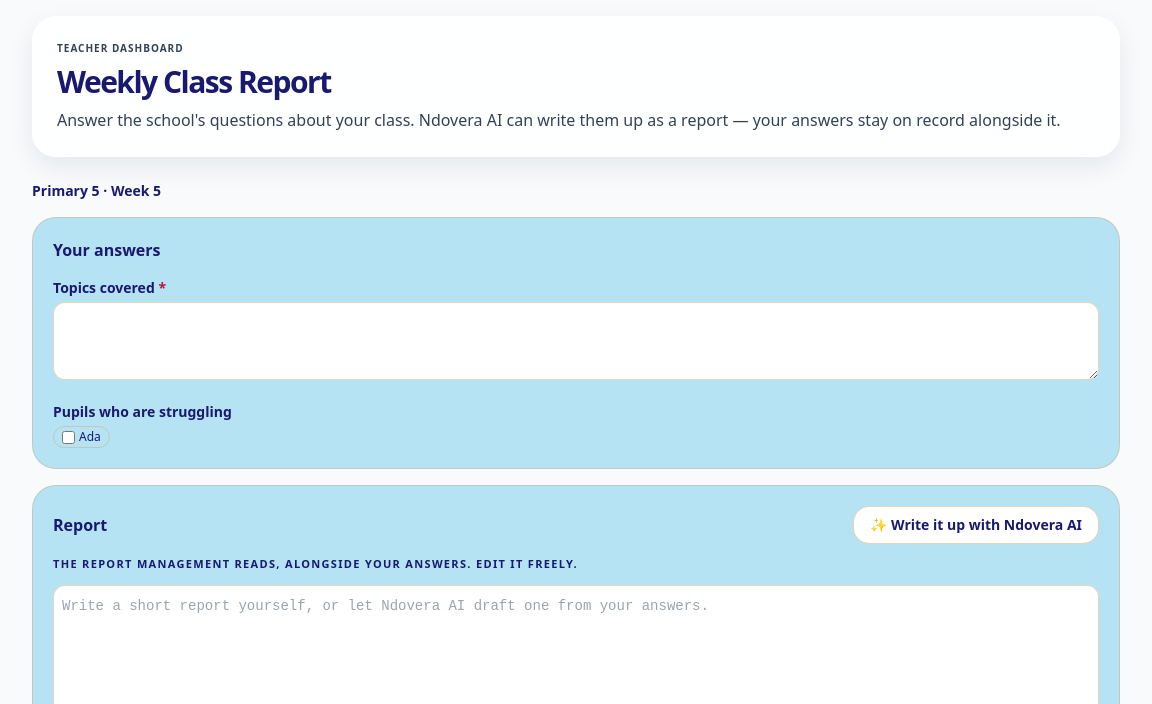
Test: a class teacher answers the questions, lets Ndovera AI write it up, edits it and submits
Type "Fractions" into the text box labelled "Topics covered *". click: x=576, y=341
box: [53, 302, 1099, 380]
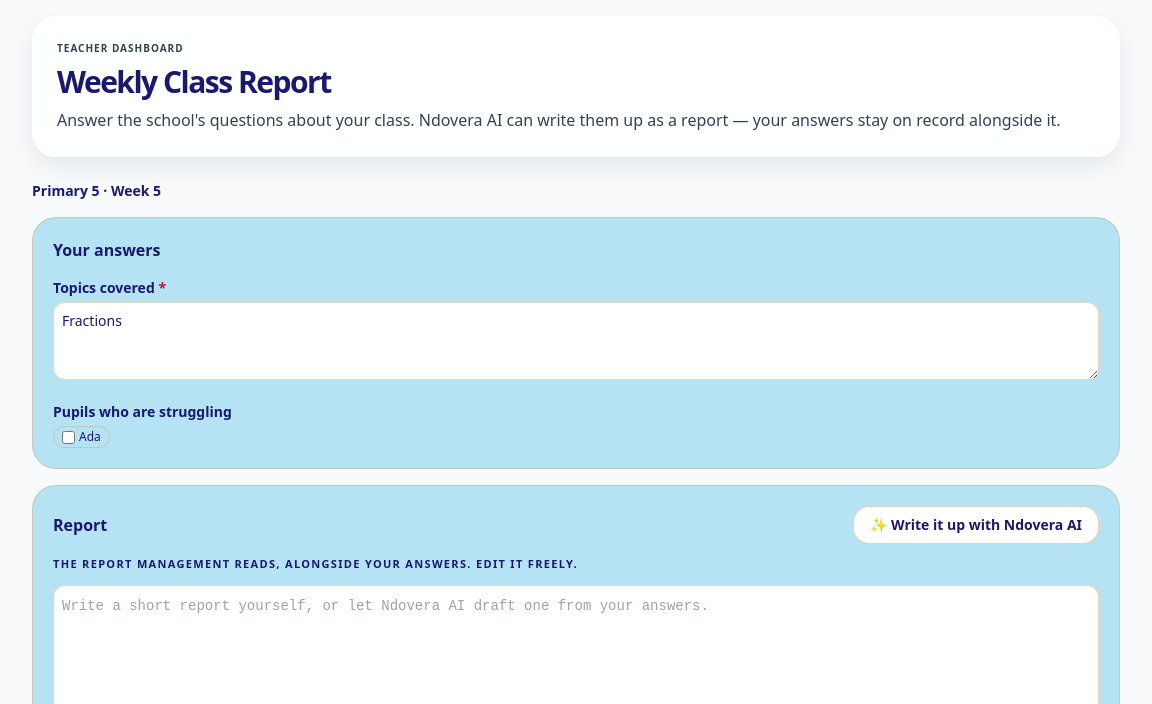
Click the checkbox labelled "Ada". click: x=68, y=437
box: [62, 430, 75, 444]
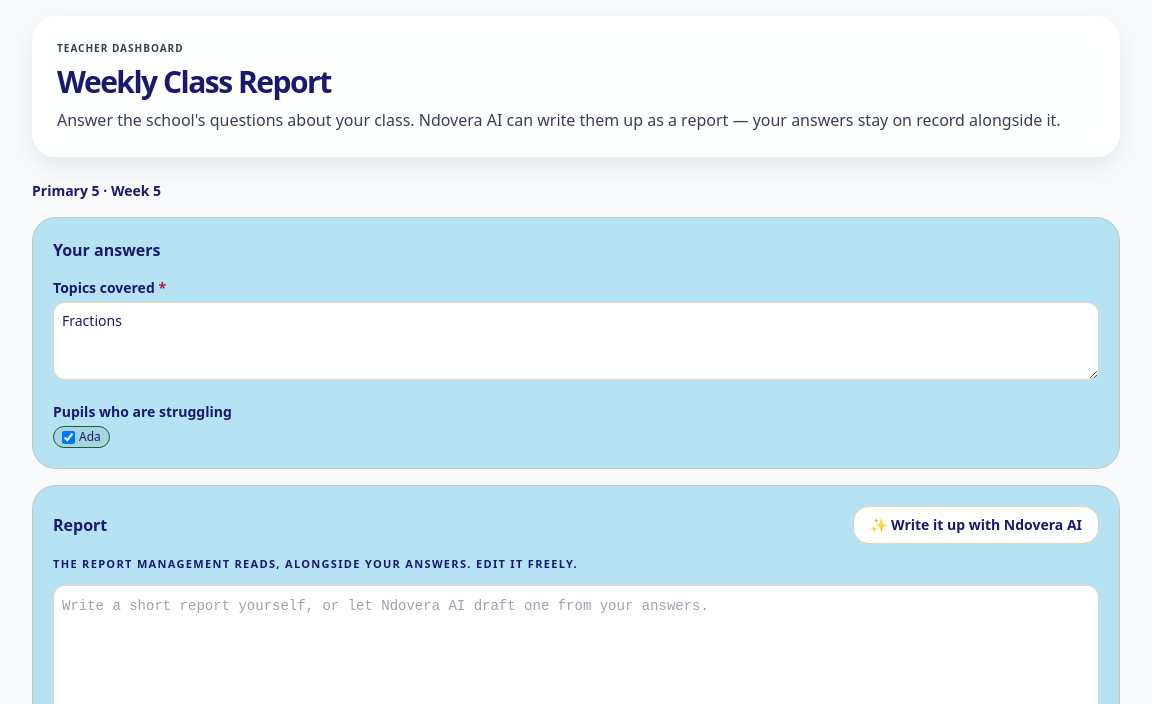
Click the button "✨ Write it up with Ndovera AI". click: x=976, y=525
box: [853, 506, 1099, 544]
(page scrolled)
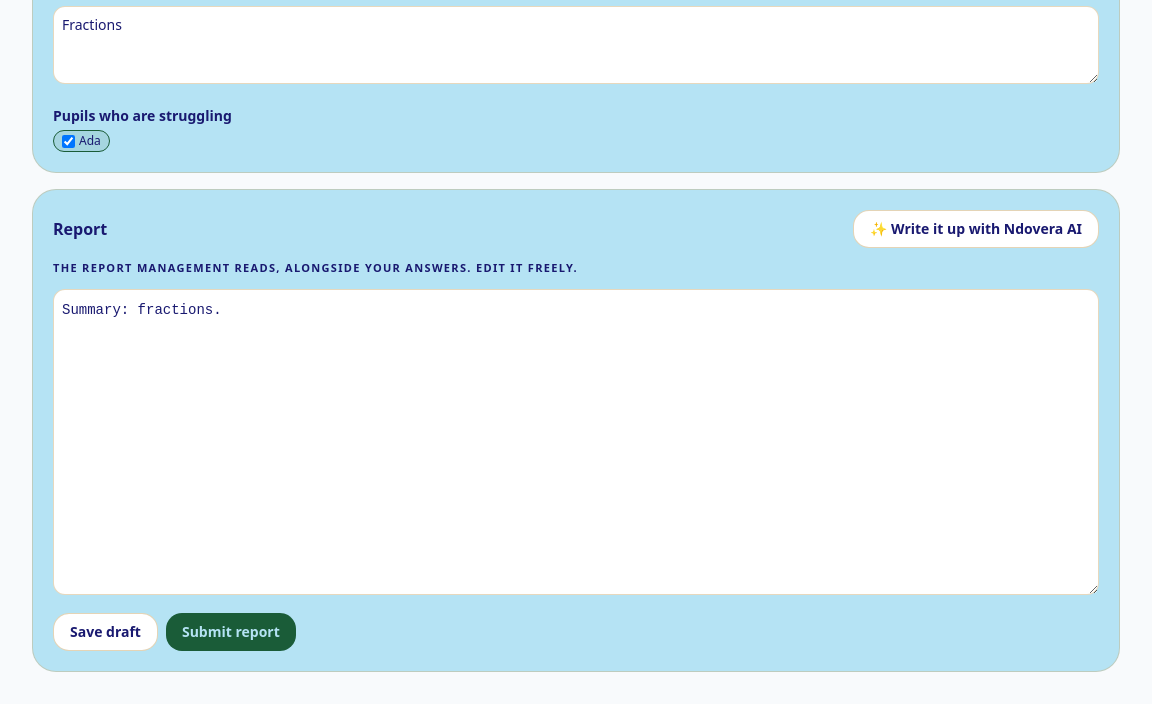
Result: the text box named "report" holds "Summary: fractions."
Replace the text in the text box named "report" with "Edited.". click: x=576, y=442
box: [53, 288, 1099, 594]
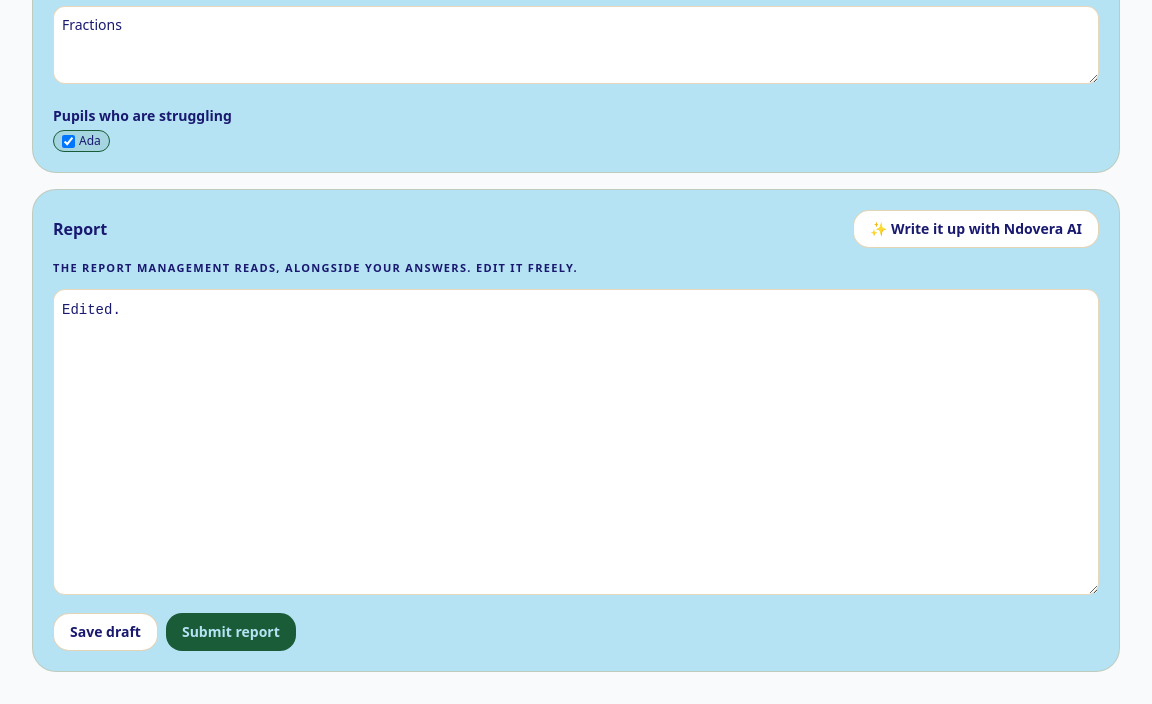
Click the button "Submit report". click: x=231, y=632
box: [166, 612, 296, 650]
(page scrolled)
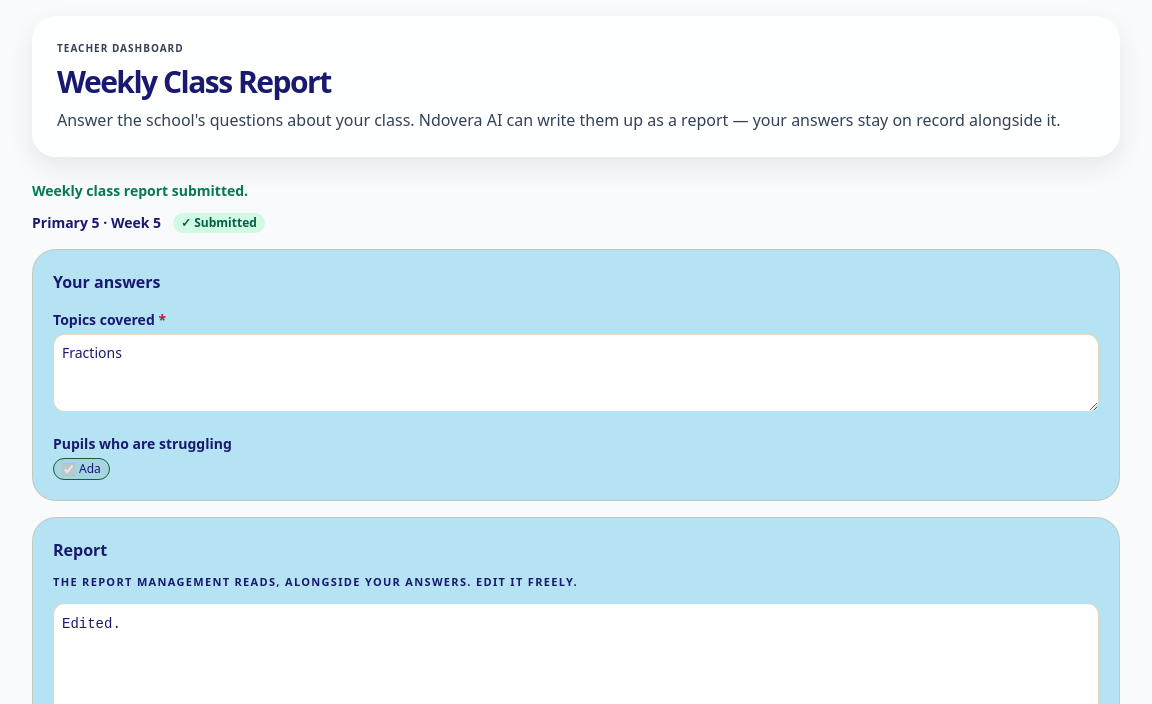
Result: the text "✓ Submitted" is shown at [173, 213, 265, 233]
